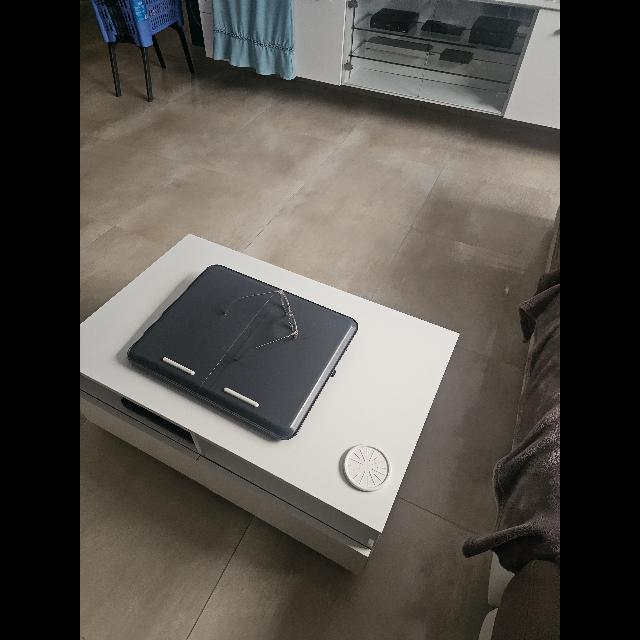glasses: (222, 290, 298, 362)
